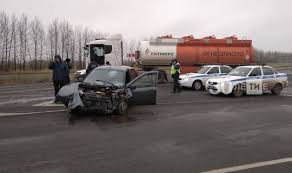car: (68, 49, 154, 123)
